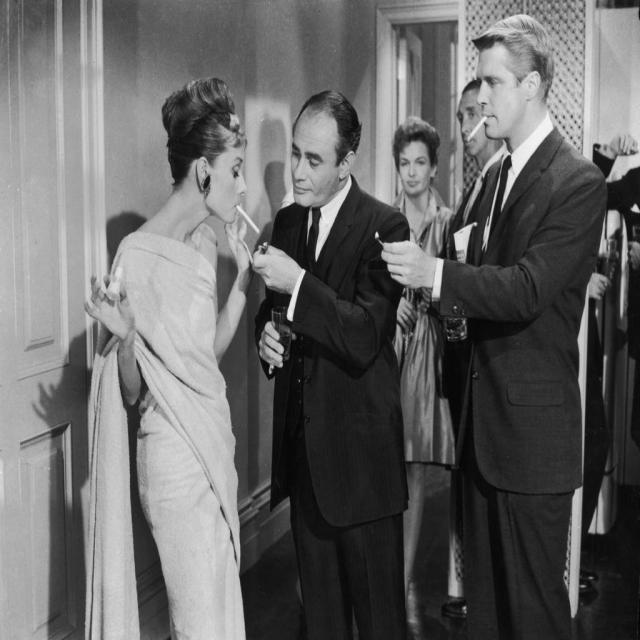smoking: (448, 54, 566, 158), (184, 152, 265, 242)
